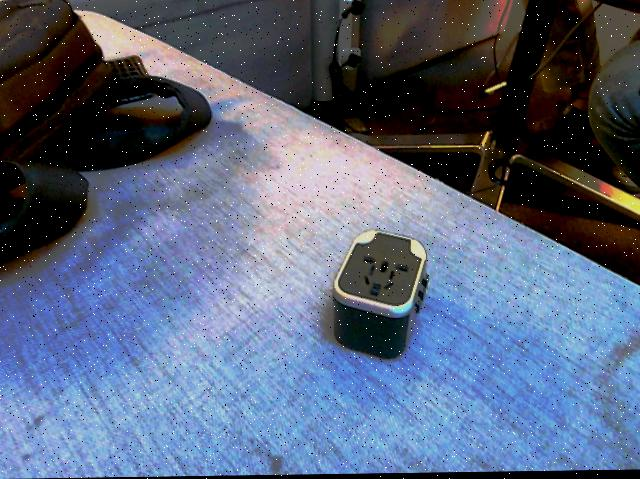adapter: (331, 229, 429, 361)
